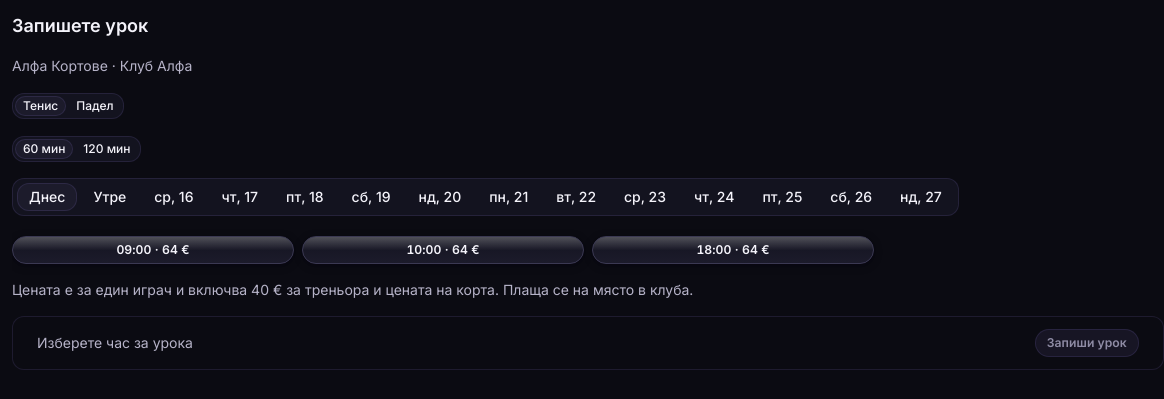
Test case: choosing a lesson › keeps the choice and the pick in the URL, so a reload keeps them
Click the button "10:00 · 64 €": (443, 250) 302,236 -> 584,264
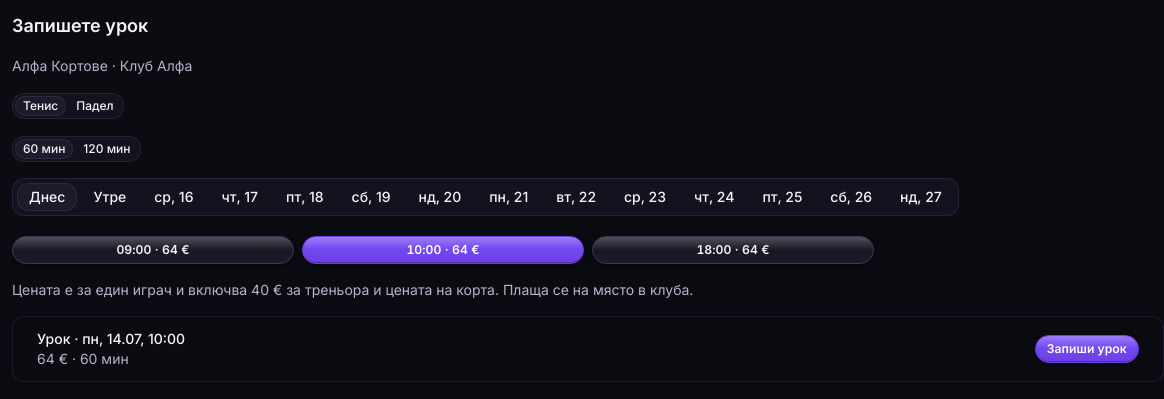
Expected: the text with test id "lesson-pick" reads "Урок · пн, 14.07, 10:00", 37,330 -> 185,347
Expected: the button with test id "lesson-book" is enabled, 1035,335 -> 1139,363
